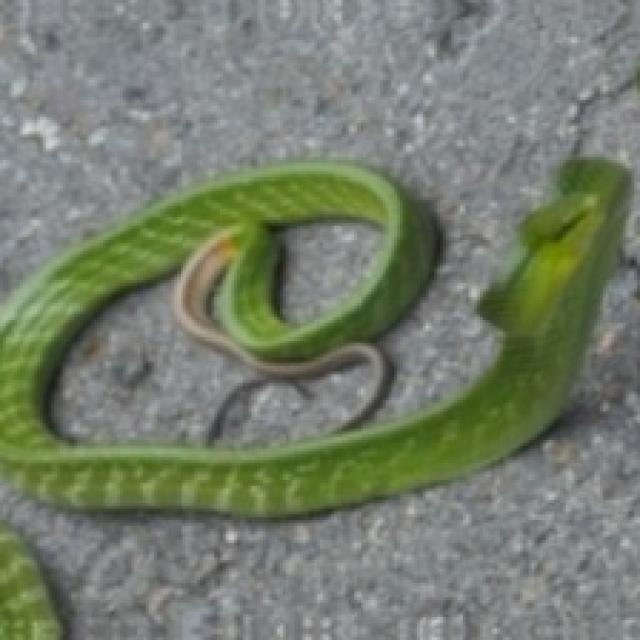red-tailed green ratsnake: (0, 158, 630, 517), (0, 157, 629, 514), (0, 523, 60, 637)
